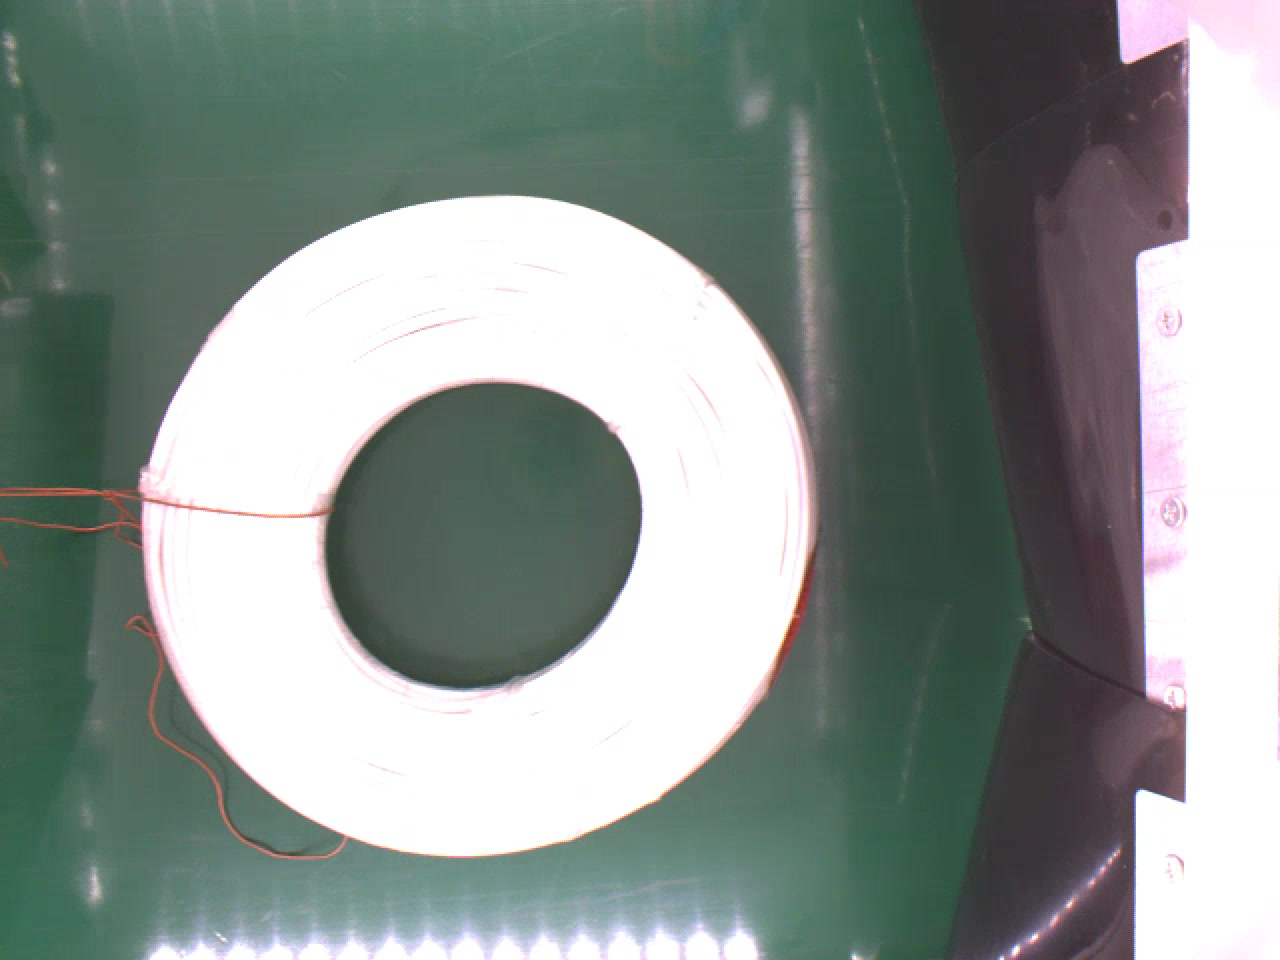white: (137, 193, 819, 857)
